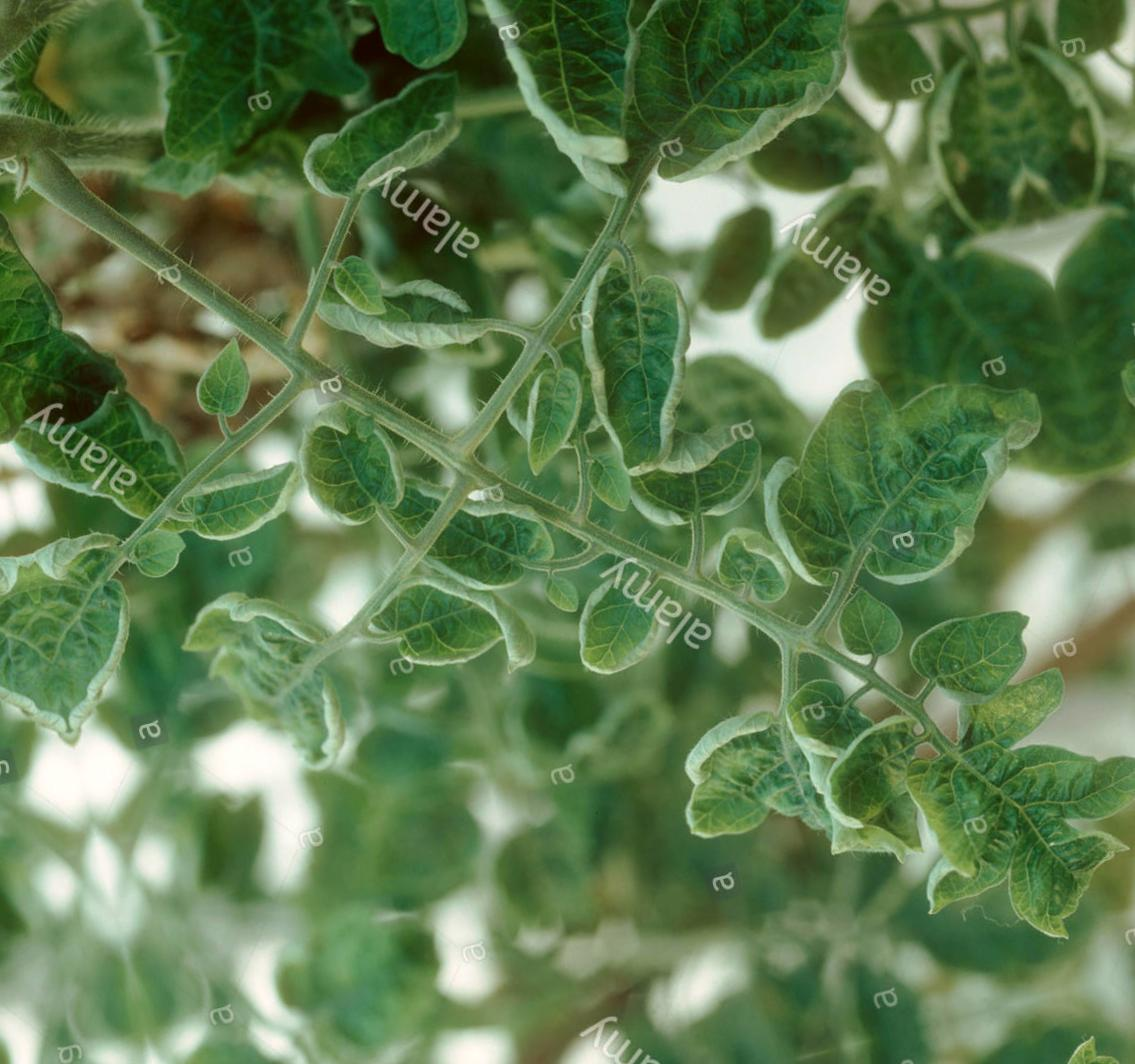Tomato leaf yellow virus: (731, 319, 1101, 628), (846, 672, 1135, 1011), (411, 0, 773, 237), (635, 624, 896, 903), (580, 0, 893, 203), (147, 567, 420, 792), (327, 387, 581, 620), (550, 212, 749, 491), (270, 61, 507, 269), (532, 502, 693, 783)
